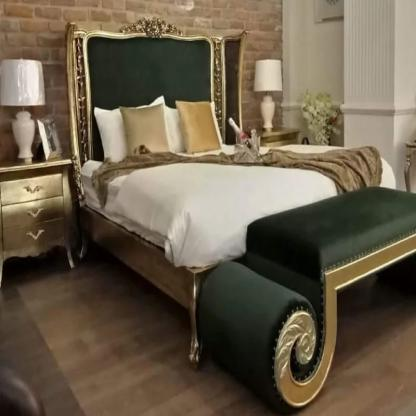bed: (70, 29, 416, 416), (64, 25, 402, 378)
light: (0, 50, 43, 158), (251, 51, 283, 130)
table: (195, 192, 416, 404), (1, 158, 75, 288), (247, 123, 298, 155), (400, 138, 416, 194)
